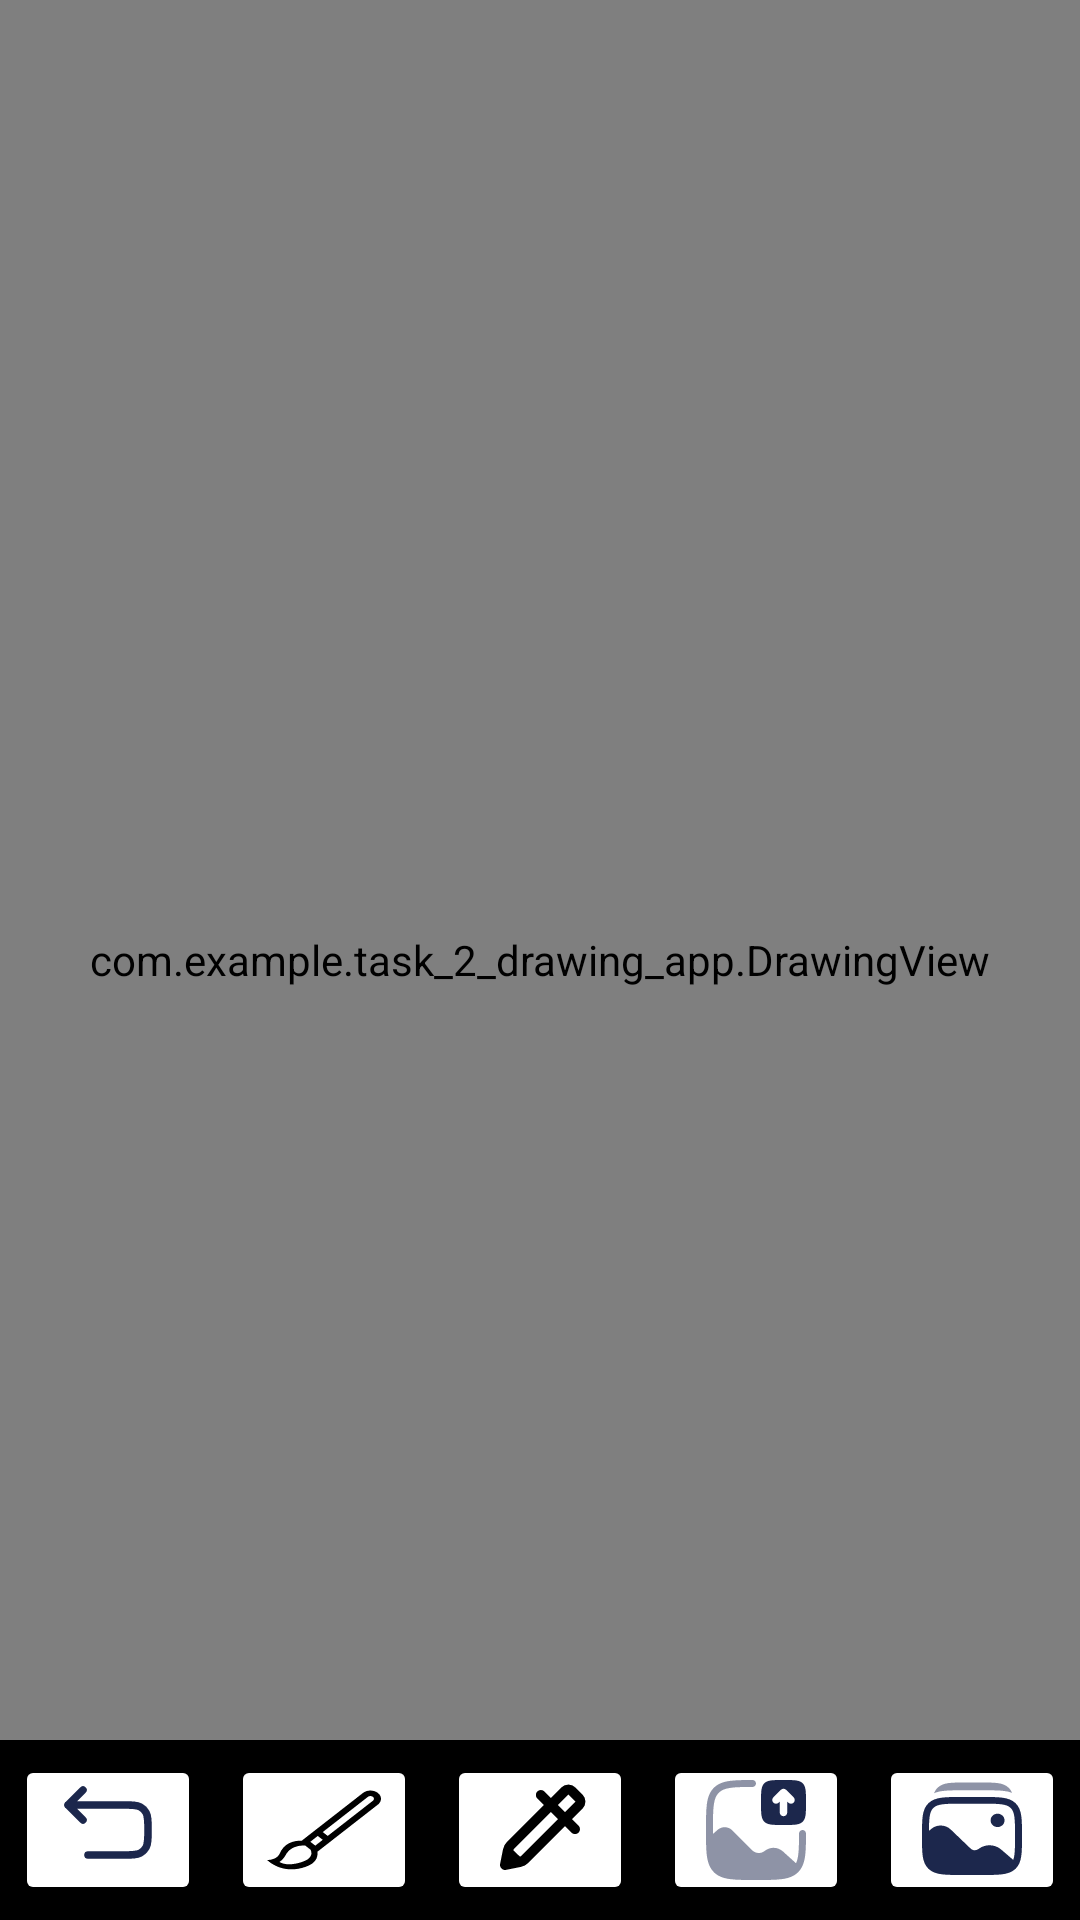

Icons on this 1080×1920 Android screen, each with the point to tap as (x=x, y=y):
Brush Size: (x=324, y=1830)
Color Picker: (x=540, y=1830)
Open Gallery: (x=972, y=1830)
undo: (x=108, y=1830)
Upload Drawing: (x=756, y=1830)
